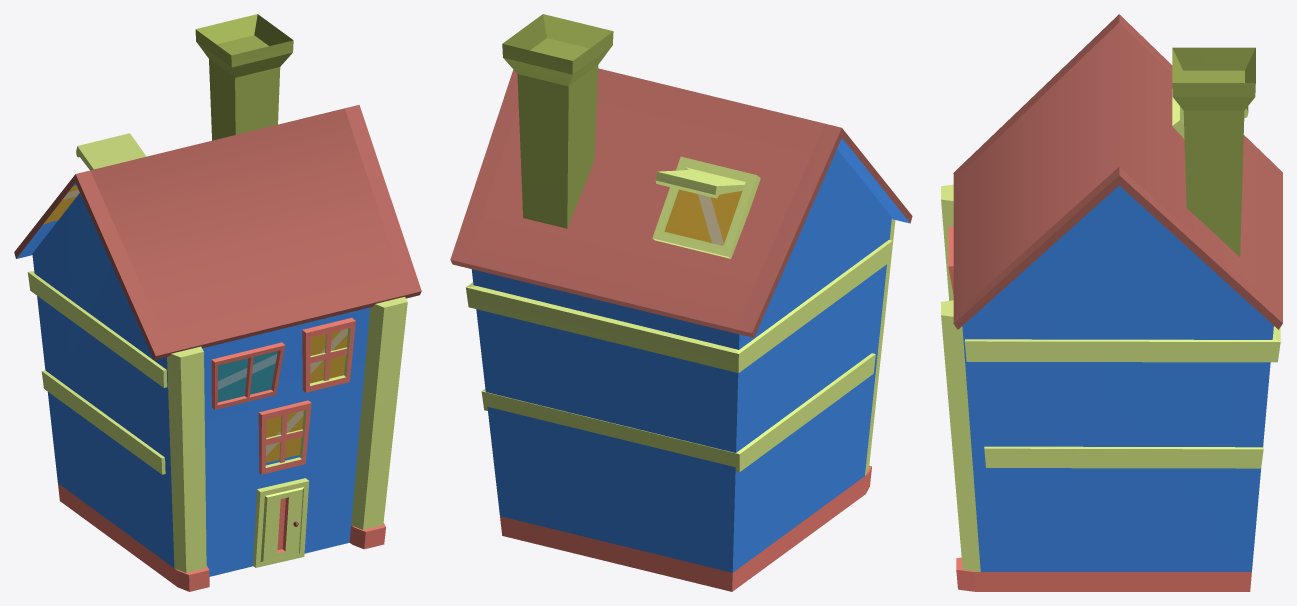
Rendered from House6.FBX.
The picture shows the model from 3 angles, left to right: view 1: azimuth 30°, elevation 25°; view 2: azimuth 150°, elevation 25°; view 3: azimuth 270°, elevation 25°; orthographic projection. The views are drawn at different scales.
Parts seen in each view (by area): view 1: House008; view 2: House008; view 3: House008.
Boxes of the visible parts, bbox=[...] form: House008: bbox=[14, 14, 421, 591]; House008: bbox=[450, 14, 912, 591]; House008: bbox=[941, 14, 1282, 591].
Size of the model in its own units: 286 by 257 by 421.
